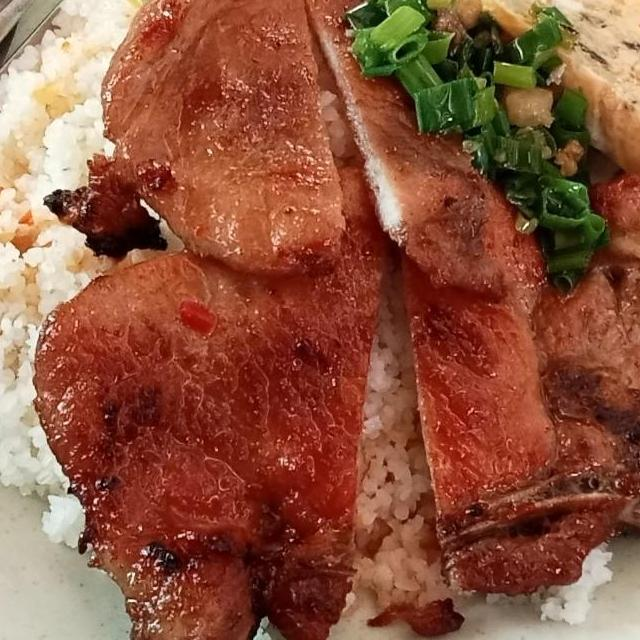cha: (462, 0, 640, 198)
com: (0, 0, 179, 565), (316, 268, 473, 616), (482, 538, 628, 632)
com suon cha: (0, 0, 640, 640)
suon: (29, 153, 404, 640), (36, 0, 566, 304), (378, 152, 640, 602)
